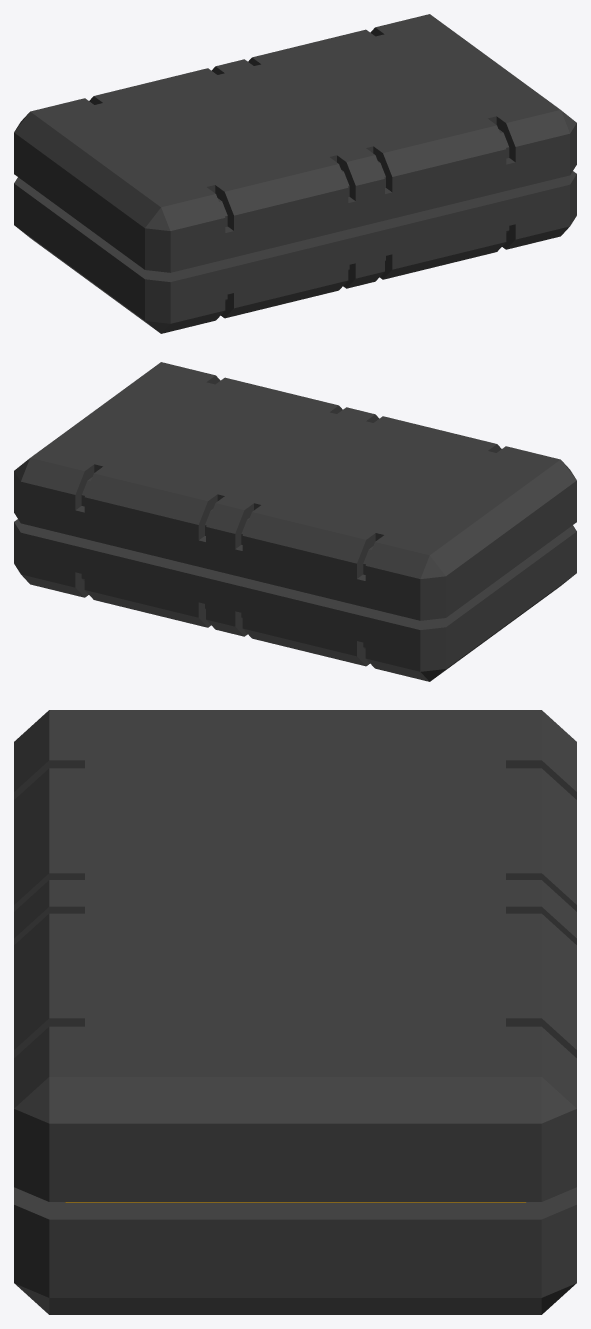
File: Obstacle3.fbx
The picture shows the model from 3 angles, top to bottom: view 1: azimuth 30°, elevation 25°; view 2: azimuth 150°, elevation 25°; view 3: azimuth 270°, elevation 25°; orthographic projection. The views are drawn at different scales.
Parts seen in each view (by area): view 1: Obstacle3; view 2: Obstacle3; view 3: Obstacle3.
Part boxes in pixels (x1,y1,x2,y2): Obstacle3: [14, 14, 576, 333]; Obstacle3: [14, 362, 576, 681]; Obstacle3: [14, 710, 576, 1314].
Bounding box in the file's own units: 140 × 39.2 × 84.
